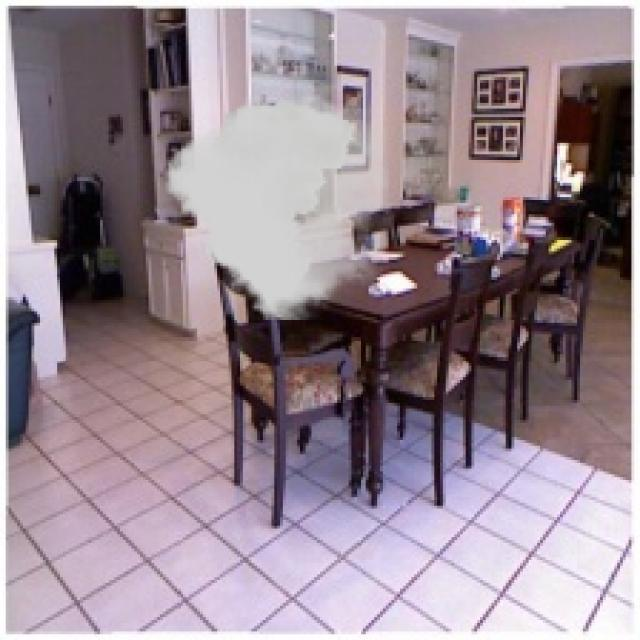Smoke: (165, 91, 388, 320)
